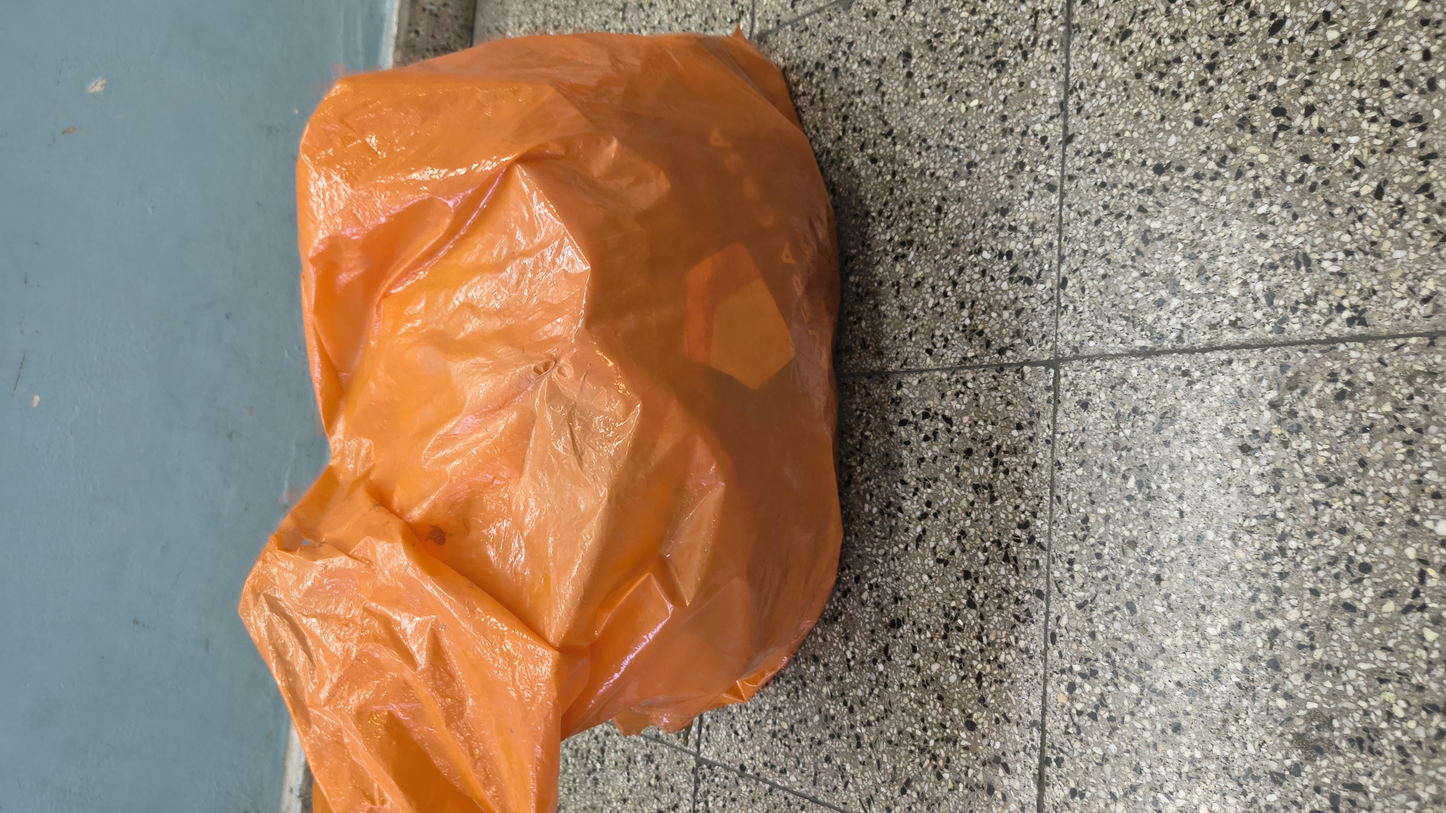Garbage: (6, 99, 1425, 510)
